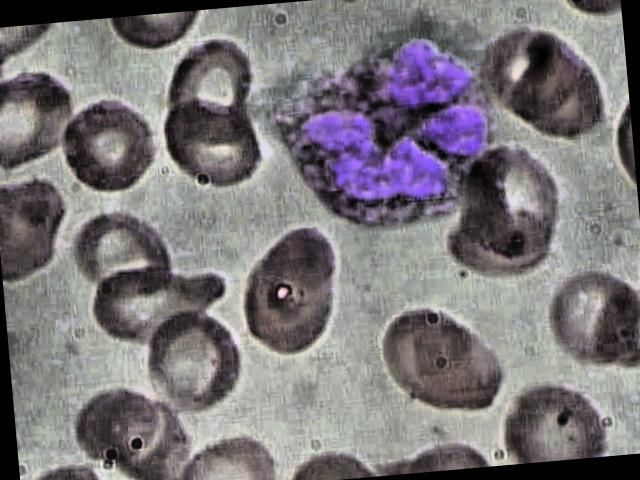RBC: (370, 290, 510, 420), (234, 214, 354, 355), (59, 262, 233, 347), (60, 204, 186, 306), (49, 87, 160, 198), (159, 30, 264, 145), (531, 261, 640, 370), (476, 13, 584, 123), (135, 308, 243, 412), (58, 382, 164, 469)
WBC: (263, 28, 506, 240)
